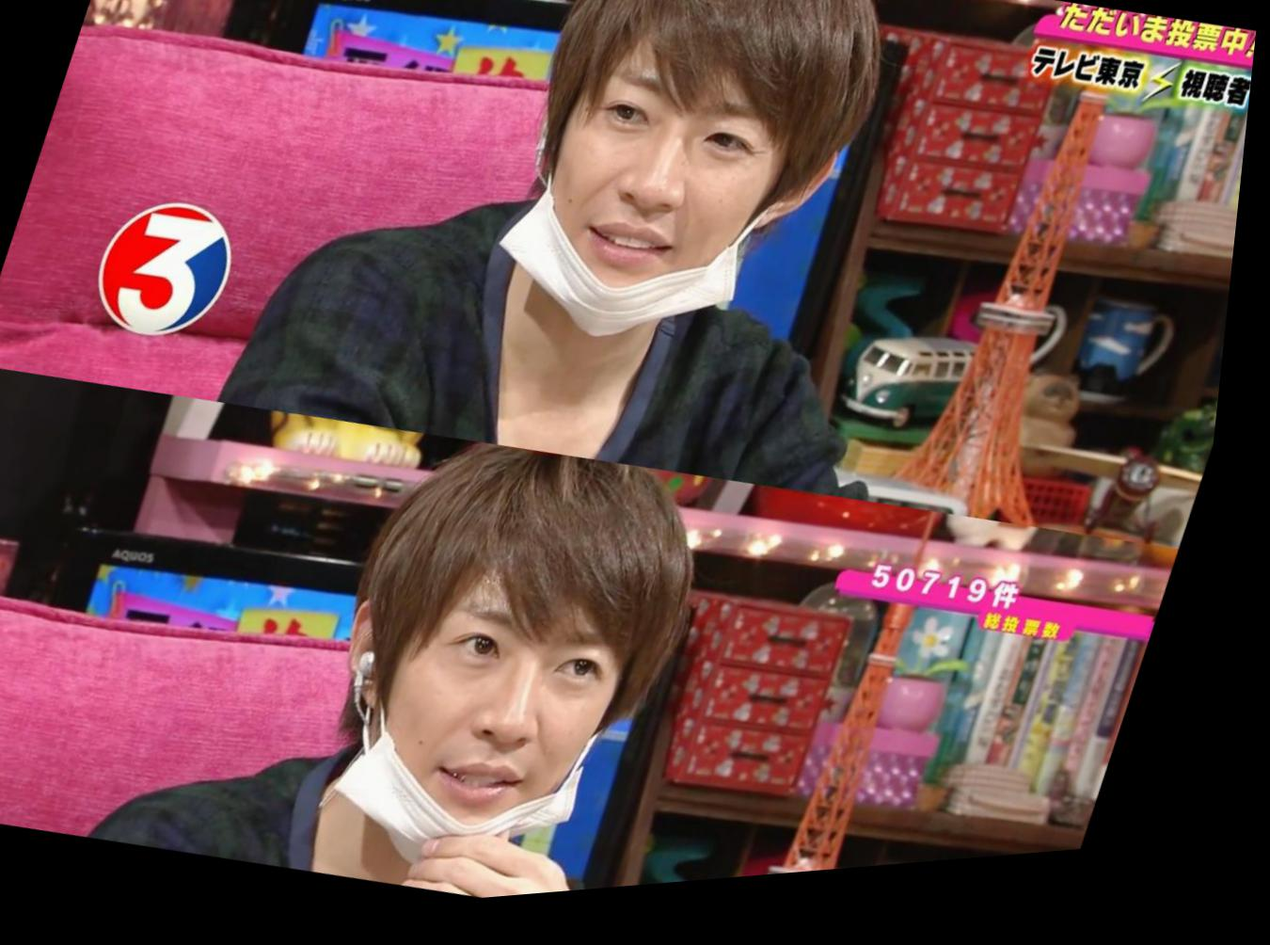WRONG: (487, 49, 813, 369), (344, 597, 659, 905)
